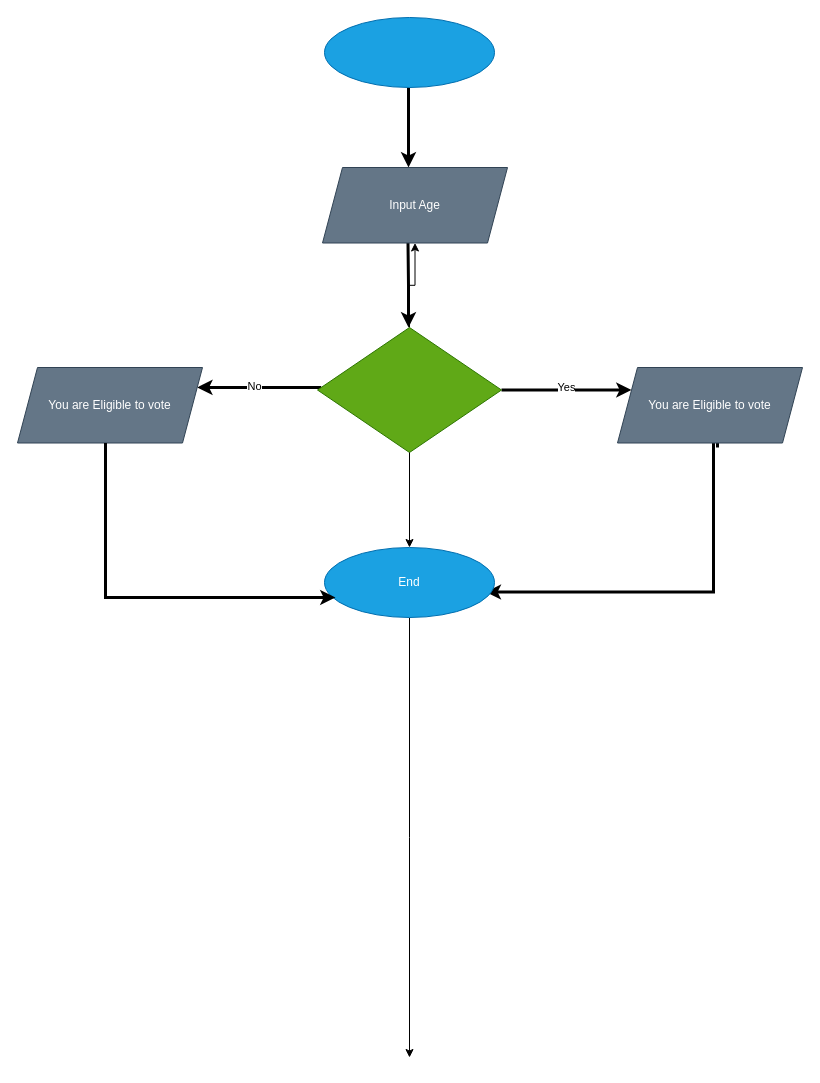
This 820x1083 diagram has some shape labels left out. The box of each missing label's shape, as (x1, y1, x2, y2) in pixels:
Is Age > 18: (316, 326, 502, 452)
Start: (324, 16, 494, 88)
